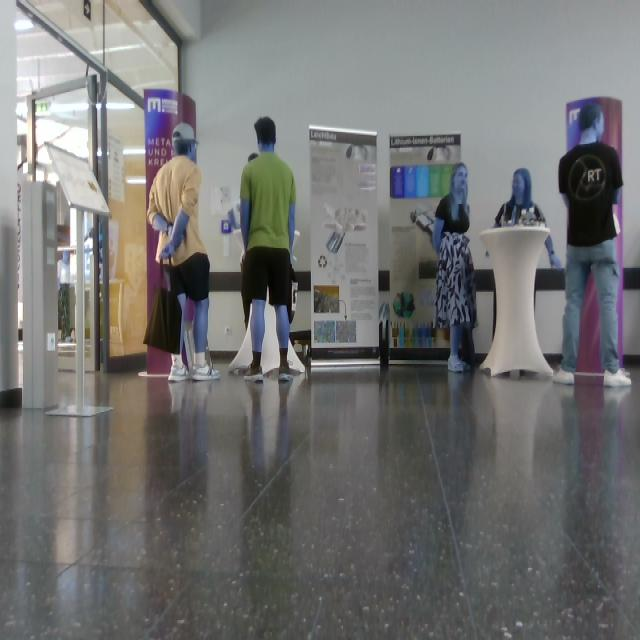door: (309, 126, 381, 364)
light bulb: (323, 204, 368, 254), (410, 209, 434, 237), (172, 123, 198, 147), (427, 145, 451, 164), (346, 144, 368, 161), (152, 213, 169, 233), (292, 231, 301, 263)
person: (553, 102, 632, 388), (147, 123, 221, 383), (240, 117, 297, 382), (433, 162, 478, 373), (486, 168, 563, 270)
table: (478, 221, 557, 384)
tiled floor: (1, 360, 640, 640)
